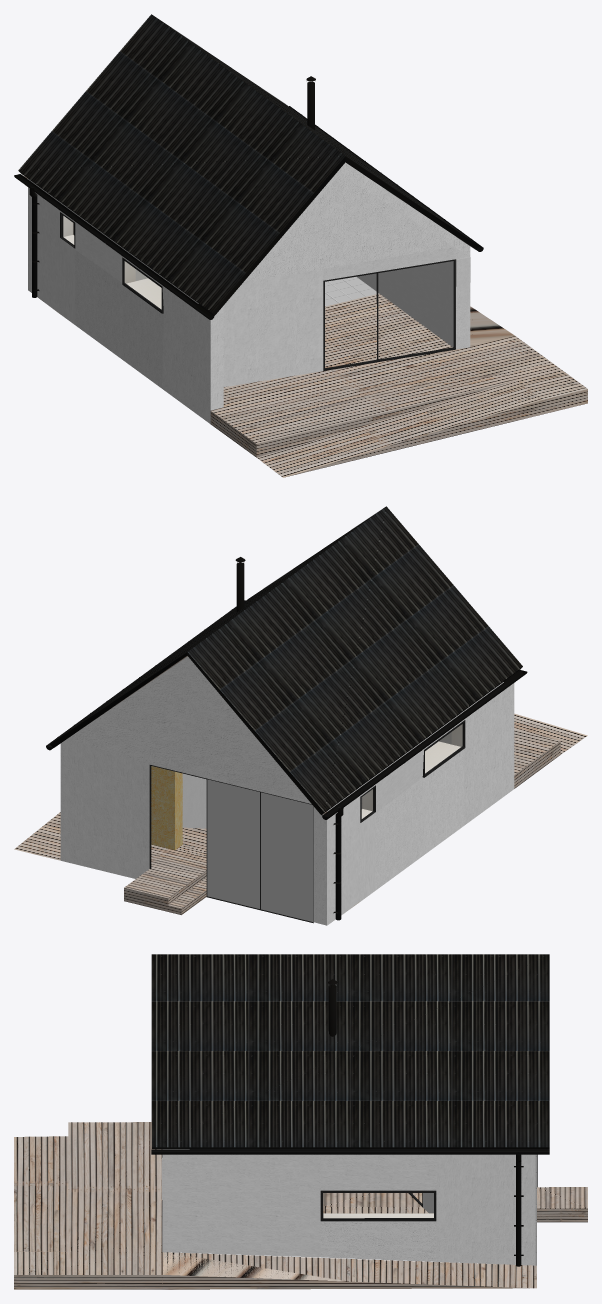
Rendered from mesh_house_01.fbx.
3 views of the same model, one above another, from view 1: azimuth 30°, elevation 25°; view 2: azimuth 150°, elevation 25°; view 3: azimuth 270°, elevation 25° (orthographic). The views are drawn at different scales.
Parts seen in each view (by area): view 1: dach, mesh_houseWalls_01, mesh_WoodHouseElements_01, rynna lewa pozioma, mesh_bedroomFurniture_01, rynna z lewej pionowa; view 2: dach, mesh_houseWalls_01, mesh_houseWalls_02, mesh_WoodHouseElements_01, rynna lewa pozioma, mesh_bedroomFurniture_01, rynna z lewej pionowa; view 3: dach, mesh_WoodHouseElements_01, mesh_houseWalls_01, rynna prawa pozioma, rynna prawa pionowa, mesh_bedroomFurniture_01, komin.
Part boxes in pixels (bbox=[...]): dach: bbox=[18, 14, 479, 316]; mesh_houseWalls_01: bbox=[22, 162, 470, 423]; mesh_WoodHouseElements_01: bbox=[60, 212, 587, 477]; rynna lewa pozioma: bbox=[14, 174, 214, 319]; mesh_bedroomFurniture_01: bbox=[63, 216, 161, 309]; rynna z lewej pionowa: bbox=[29, 188, 39, 297]; dach: bbox=[50, 506, 522, 815]; mesh_houseWalls_01: bbox=[60, 656, 514, 925]; mesh_houseWalls_02: bbox=[207, 779, 313, 921]; mesh_WoodHouseElements_01: bbox=[14, 713, 587, 923]; rynna lewa pozioma: bbox=[322, 670, 527, 819]; mesh_bedroomFurniture_01: bbox=[361, 724, 462, 818]; rynna z lewej pionowa: bbox=[333, 807, 343, 920]; dach: bbox=[151, 954, 549, 1148]; mesh_WoodHouseElements_01: bbox=[14, 1122, 587, 1289]; mesh_houseWalls_01: bbox=[161, 1149, 536, 1265]; rynna prawa pozioma: bbox=[151, 1149, 549, 1155]; rynna prawa pionowa: bbox=[514, 1155, 523, 1266]; mesh_bedroomFurniture_01: bbox=[323, 1213, 433, 1218]; komin: bbox=[328, 979, 337, 1036].
Size of the model in its own units: 26850 by 19930 by 41523.
